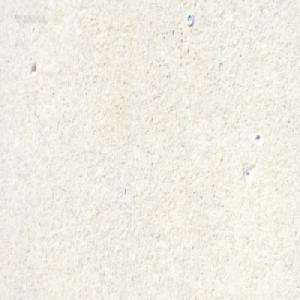Washer: (185, 12, 193, 26)
